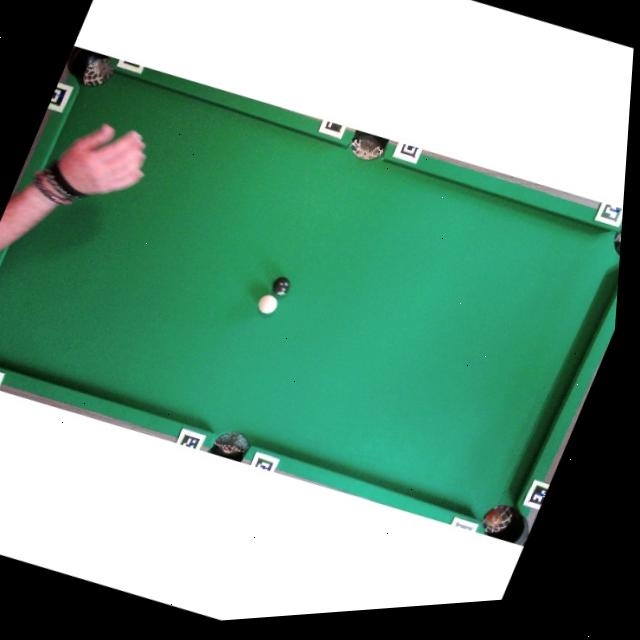cue ball: (254, 291, 281, 318)
other: (269, 273, 294, 299)
